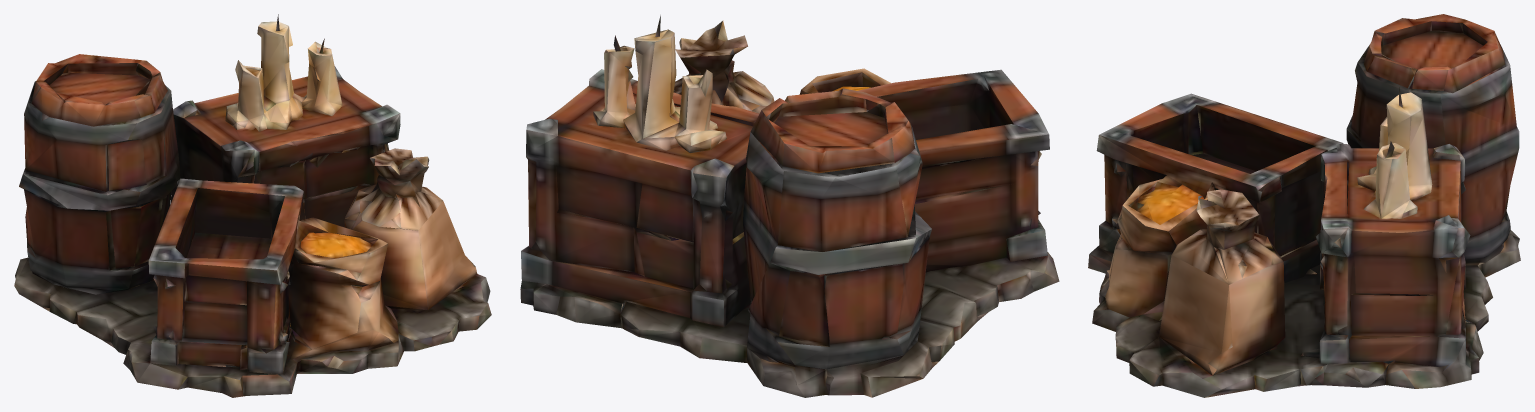
The picture shows the model from 3 angles, left to right: view 1: azimuth 30°, elevation 25°; view 2: azimuth 150°, elevation 25°; view 3: azimuth 270°, elevation 25°; orthographic projection. The views are drawn at different scales.
Visible parts, largest first — view 1: Storage equipment; view 2: Storage equipment; view 3: Storage equipment.
Boxes of the visible parts, <box> form: Storage equipment: <box>14,14,491,397</box>; Storage equipment: <box>520,15,1059,397</box>; Storage equipment: <box>1088,14,1520,397</box>.
Size of the model in its own units: 1.91 by 1.21 by 1.89.
Materials: 1 (1 with a texture image).
